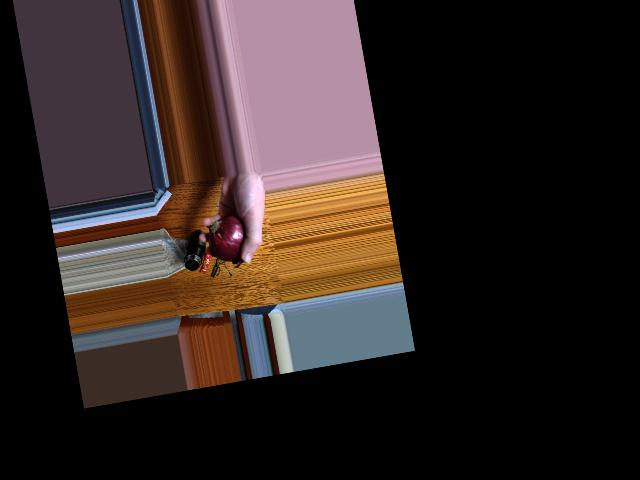onion: (210, 214, 254, 259)
